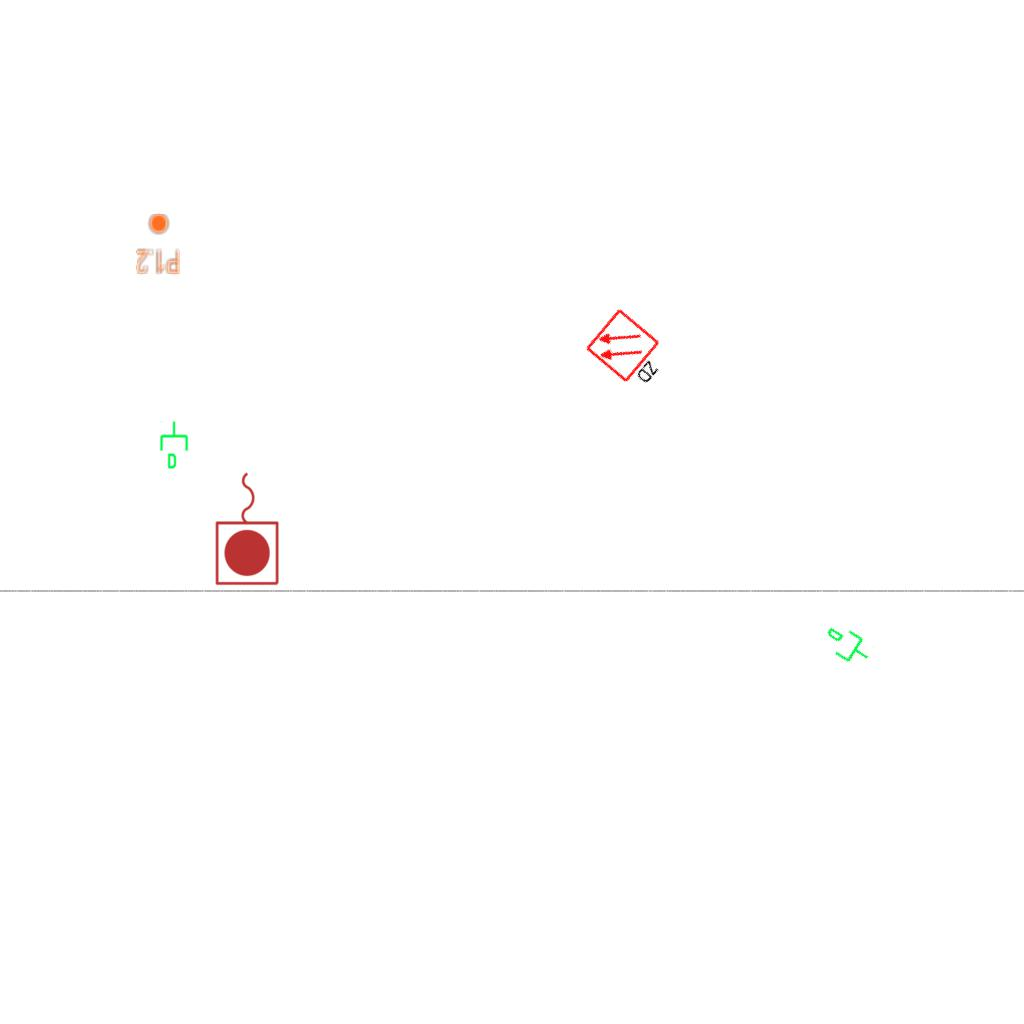Datenanschluss_einfach: (816, 618, 878, 674), (158, 420, 192, 470)
Downlight_LED_Einbauleuchten_Flur: (135, 212, 181, 276)
ZD_Melder_in_Zwischendecke_mit_Revisionsoeffnung_mind_40_x_40_cm: (583, 305, 678, 397)
Zugtaster: (212, 467, 284, 589)
